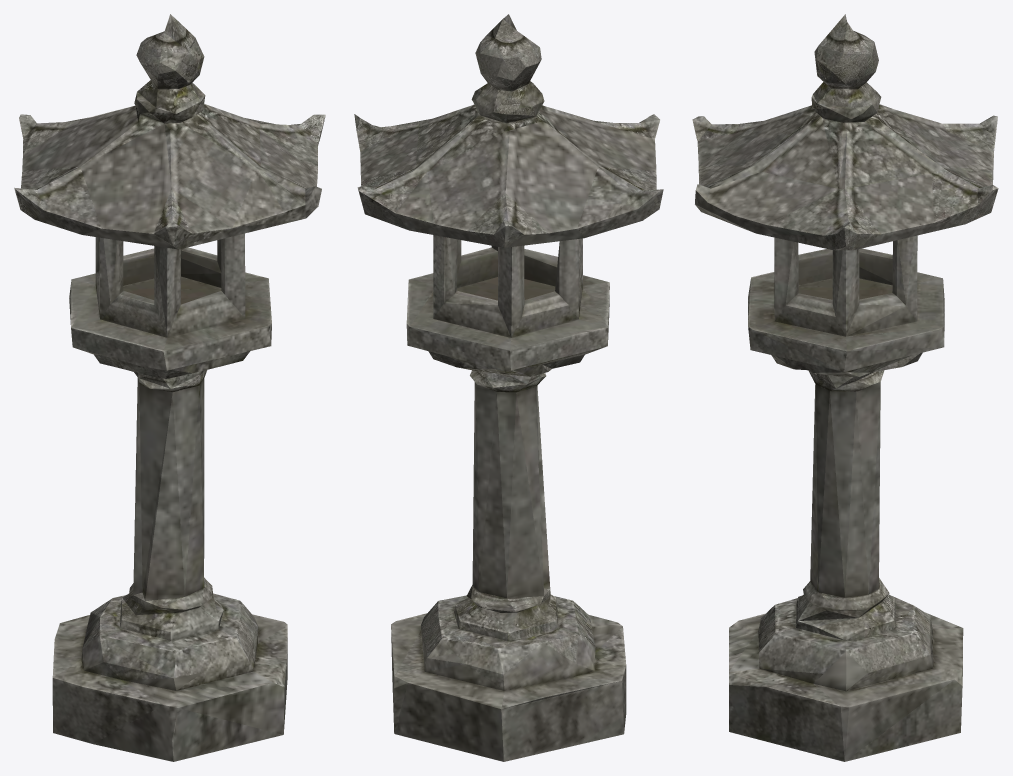
File: lantern-mobile.glb
3 renders of one model, left to right at view 1: azimuth 30°, elevation 25°; view 2: azimuth 150°, elevation 25°; view 3: azimuth 270°, elevation 25°, orthographic.
Visible parts, largest first — view 1: output_unwrapped; view 2: output_unwrapped; view 3: output_unwrapped.
Boxes of the visible parts, x1=… form: output_unwrapped: x1=14, y1=14, x2=325, y2=761; output_unwrapped: x1=354, y1=14, x2=663, y2=761; output_unwrapped: x1=692, y1=14, x2=998, y2=761.
Size of the model in its own units: 0.984 by 2.1 by 0.8427.
1 material, 1 textured.
